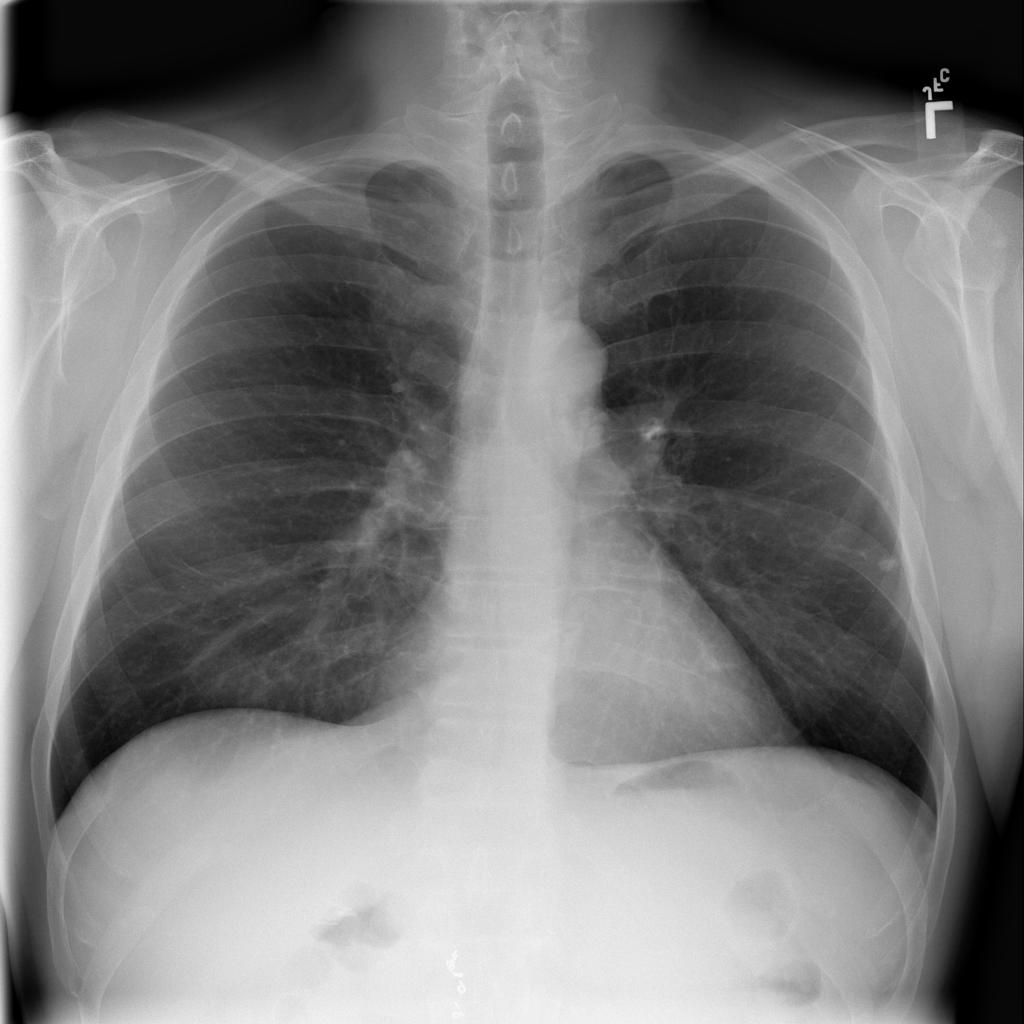nodule: (857, 537, 910, 583)
